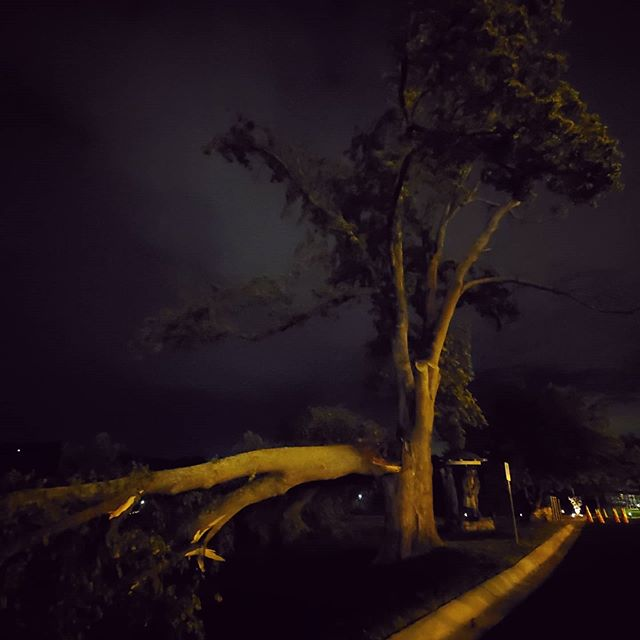sky: (1, 1, 321, 399)
tree: (241, 20, 564, 568)
